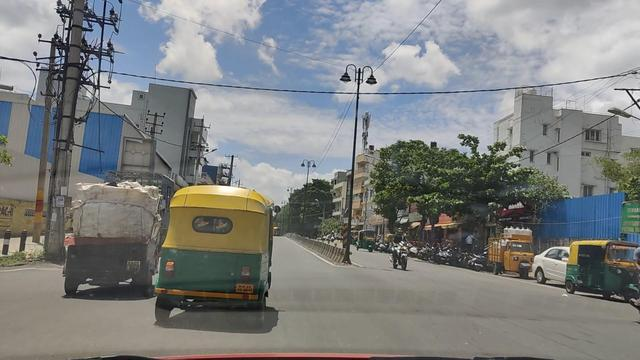LMV: (167, 189, 277, 333), (67, 184, 154, 297)
